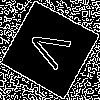V: (24, 24, 81, 76)
